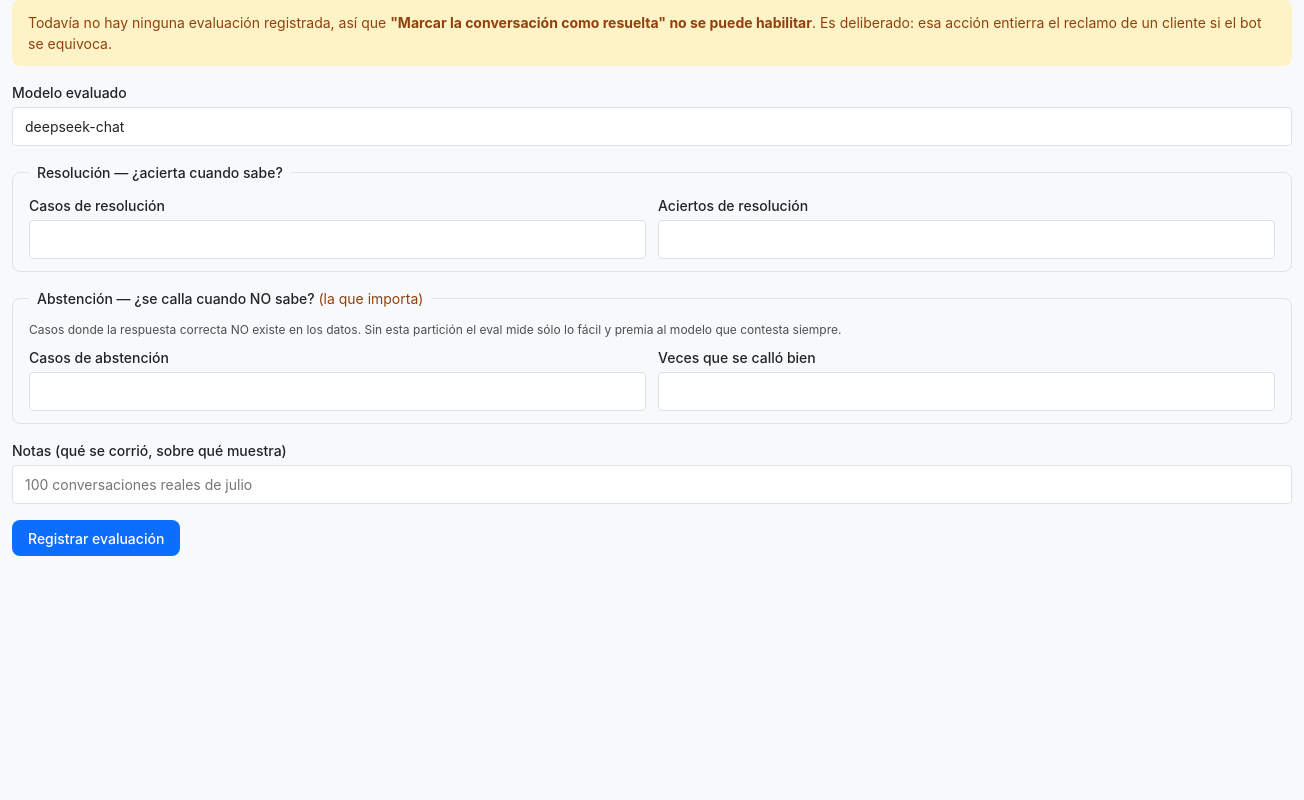
Scenario: AssistantEvalCard — el formulario exige medir abstención › aciertos mayores que el total NO se mandan
Step 1. Type "80" into the field labelled "Casos de resolución" → (338, 240), box [29,220,646,259]
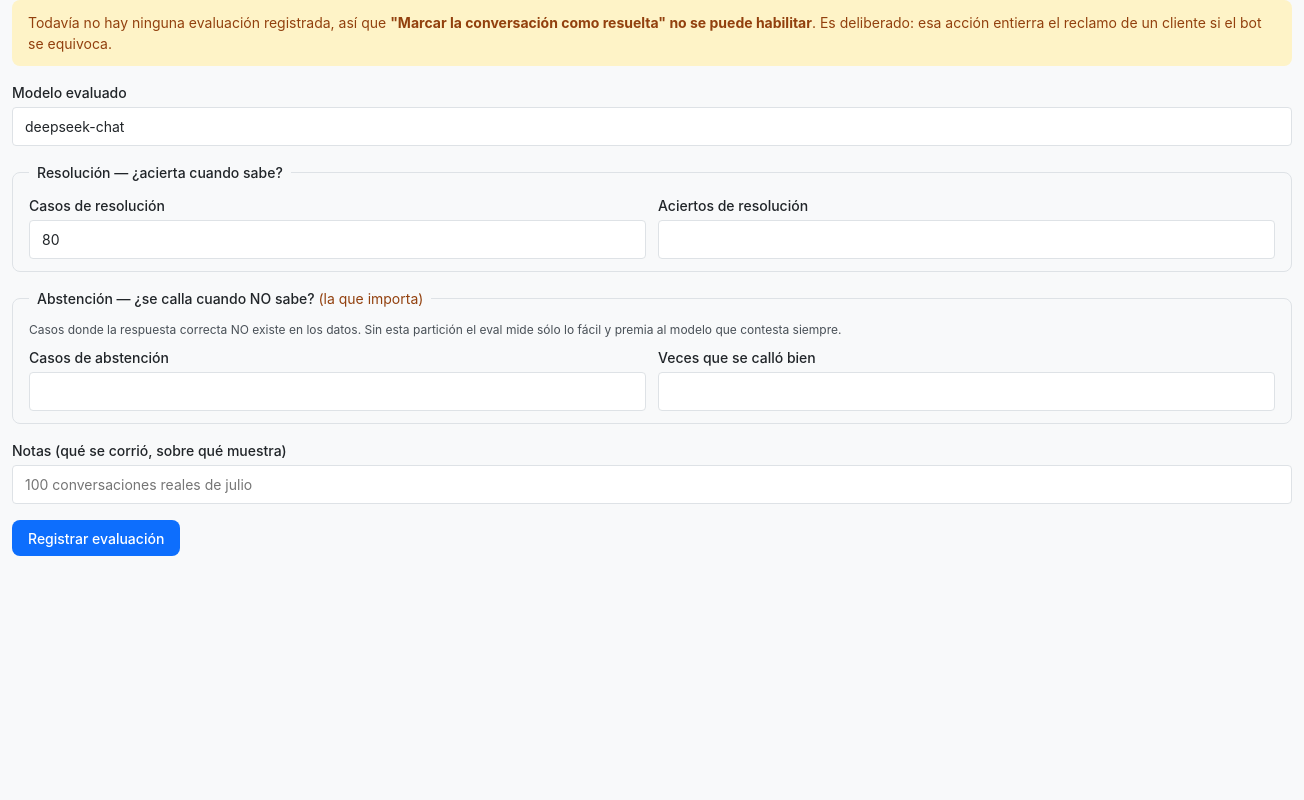
Step 2. Type "999" into the field labelled "Aciertos de resolución" → (966, 240), box [658,220,1275,259]
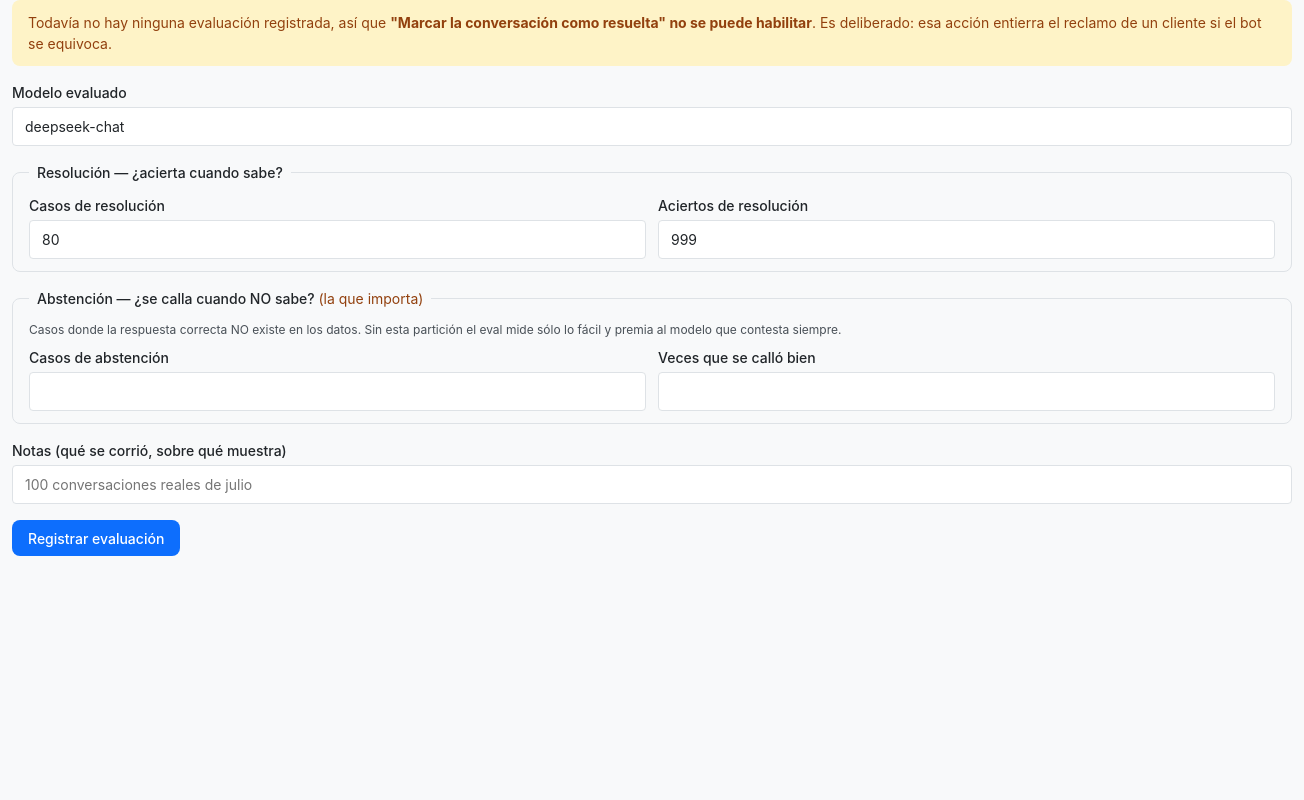
Step 3. Type "20" into the field labelled "Casos de abstención" → (338, 392), box [29,372,646,411]
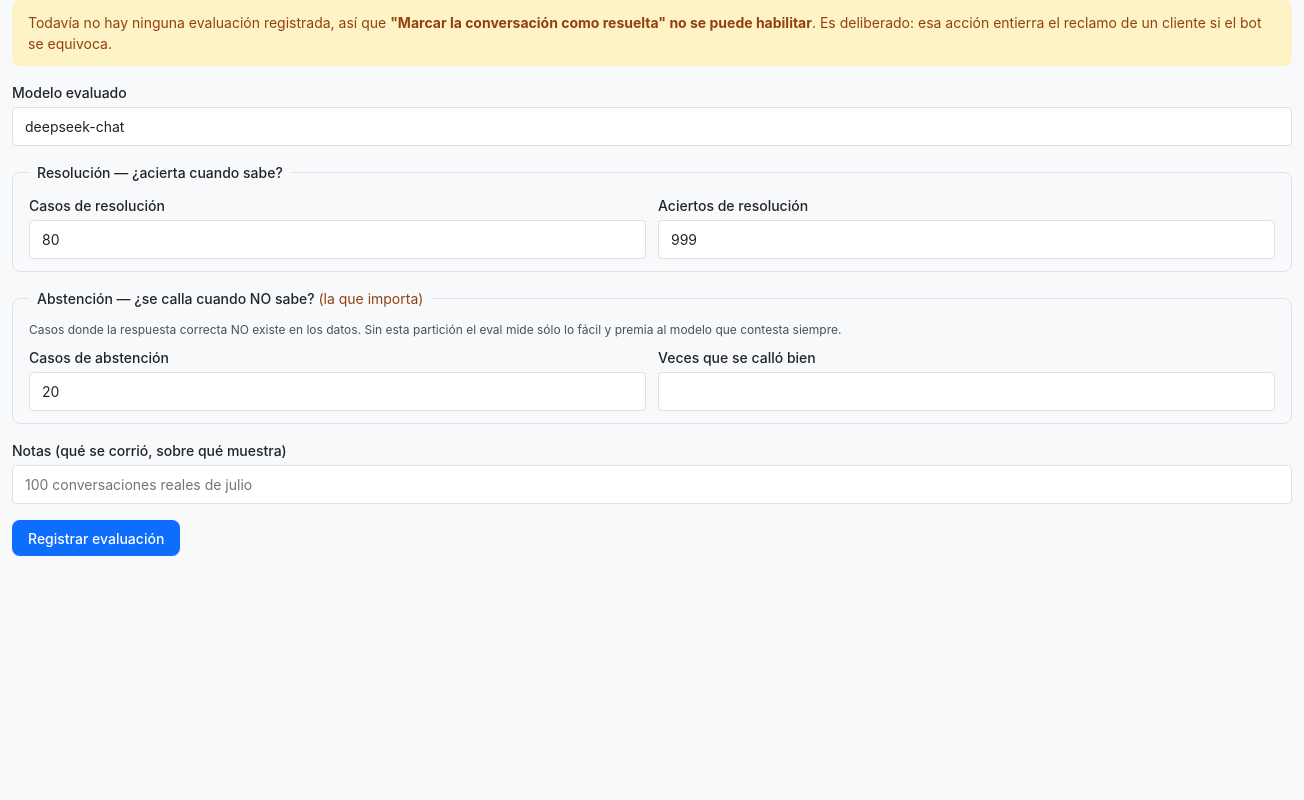
Step 4. Type "18" into the field labelled "Veces que se calló bien" → (966, 392), box [658,372,1275,411]
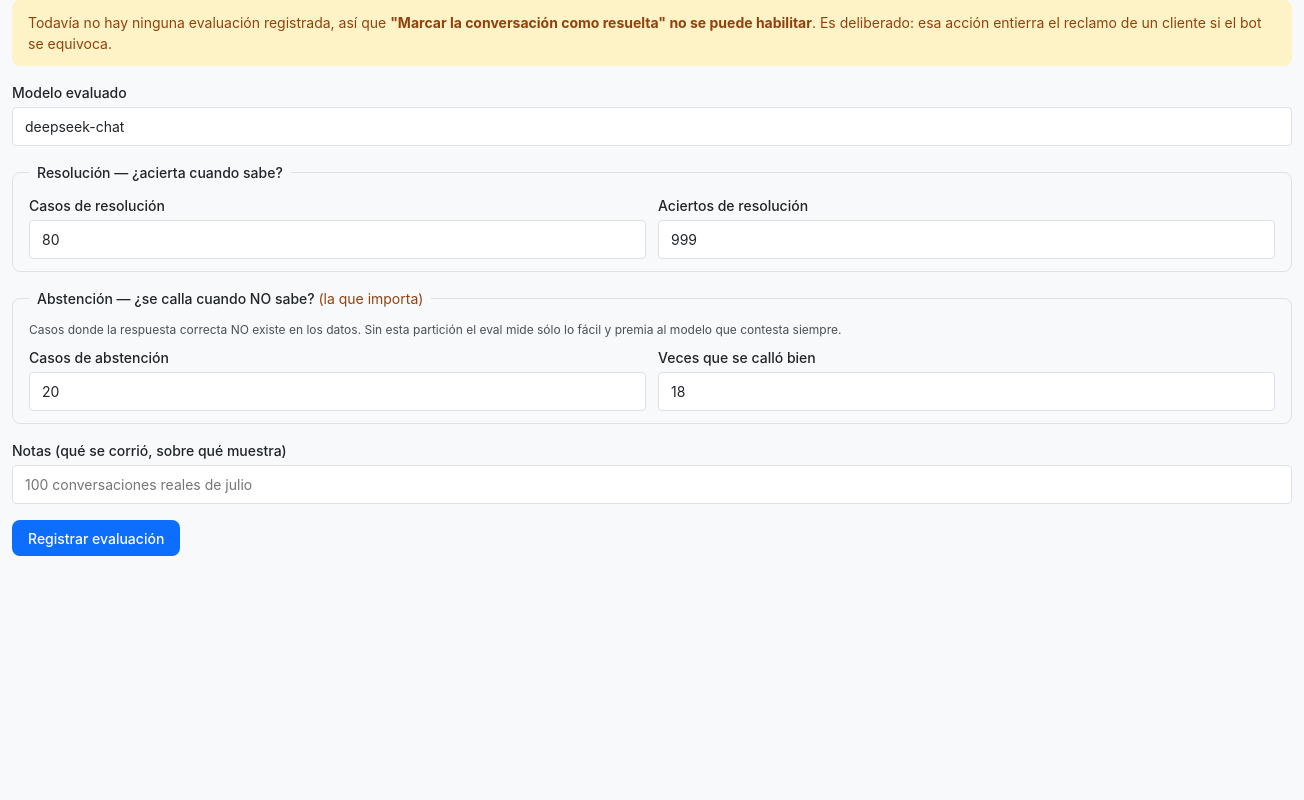
Step 5. Click the button "Registrar evaluación" → (96, 538), box [12,520,180,556]
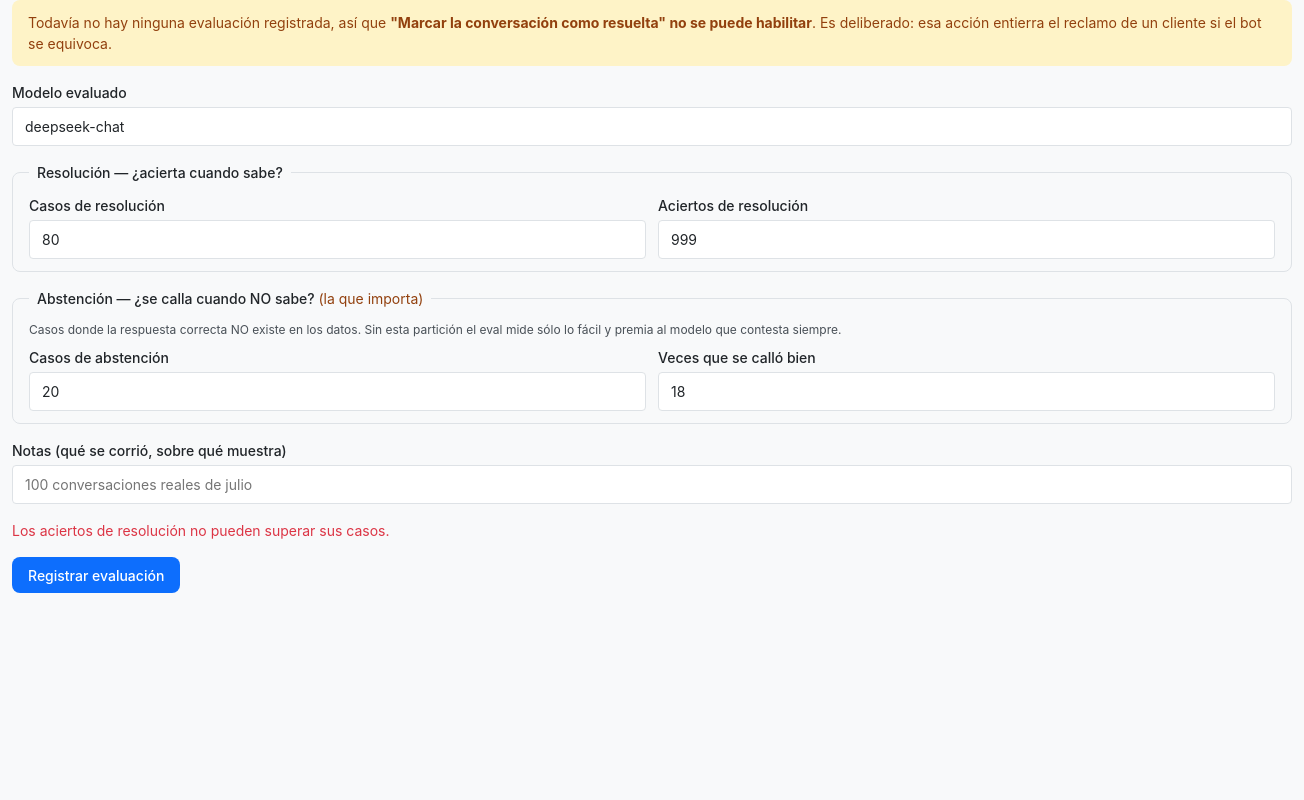
Expected: the message "Los aciertos de resolución no pueden superar sus casos." is shown, [12,522,390,539]
